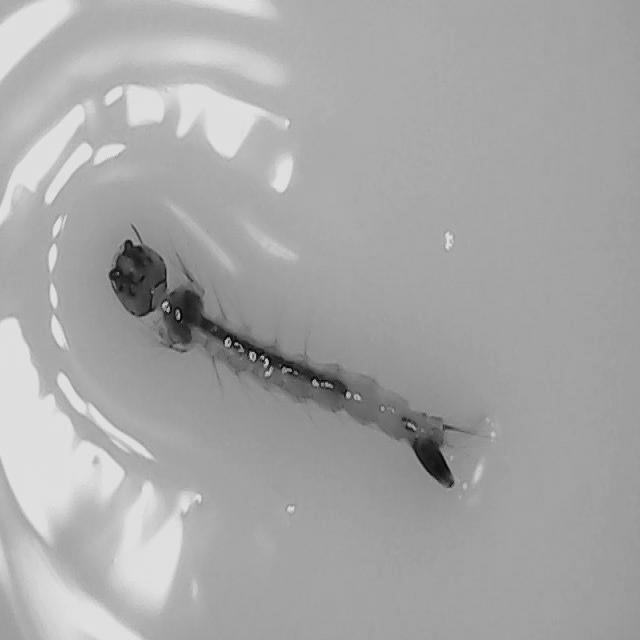larvas: (112, 242, 455, 492)
